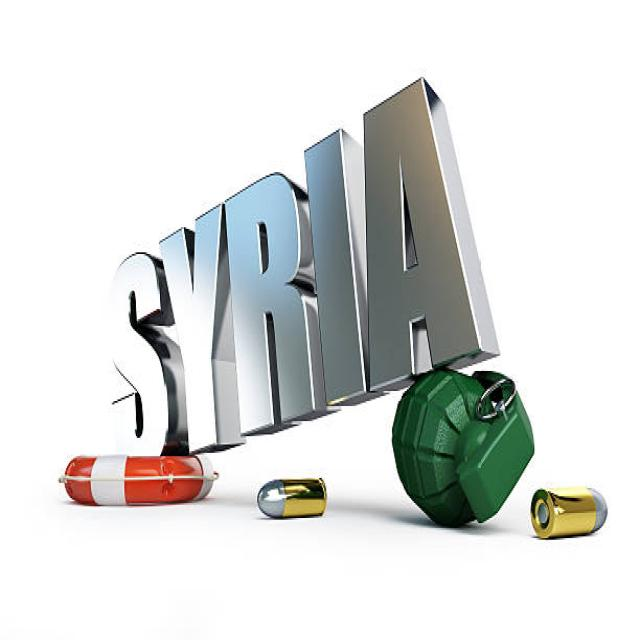grenade: (392, 363, 535, 531)
